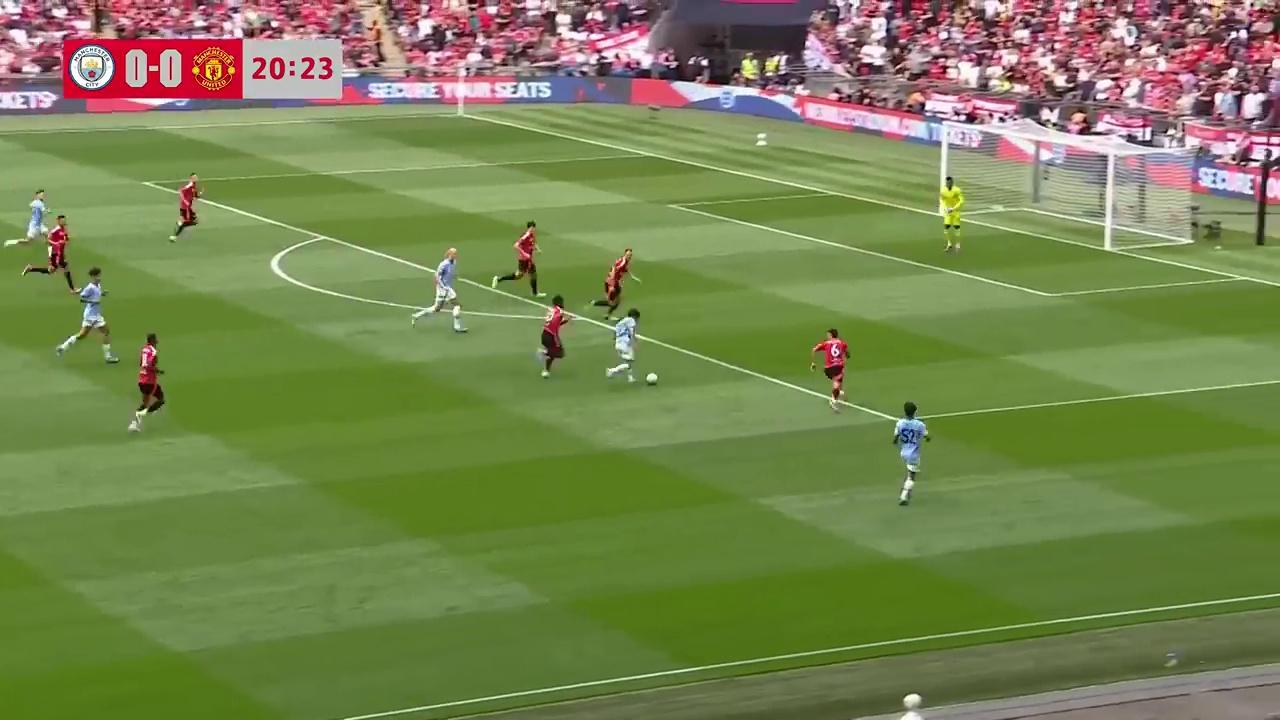ball: (645, 369, 658, 385)
player: (57, 267, 118, 362), (418, 247, 466, 332), (891, 400, 929, 506), (128, 332, 166, 433), (809, 327, 849, 414), (605, 308, 642, 384), (538, 294, 571, 378), (7, 189, 51, 250), (169, 172, 203, 242), (604, 249, 639, 317), (43, 214, 74, 289), (512, 221, 540, 295), (940, 176, 964, 253)
